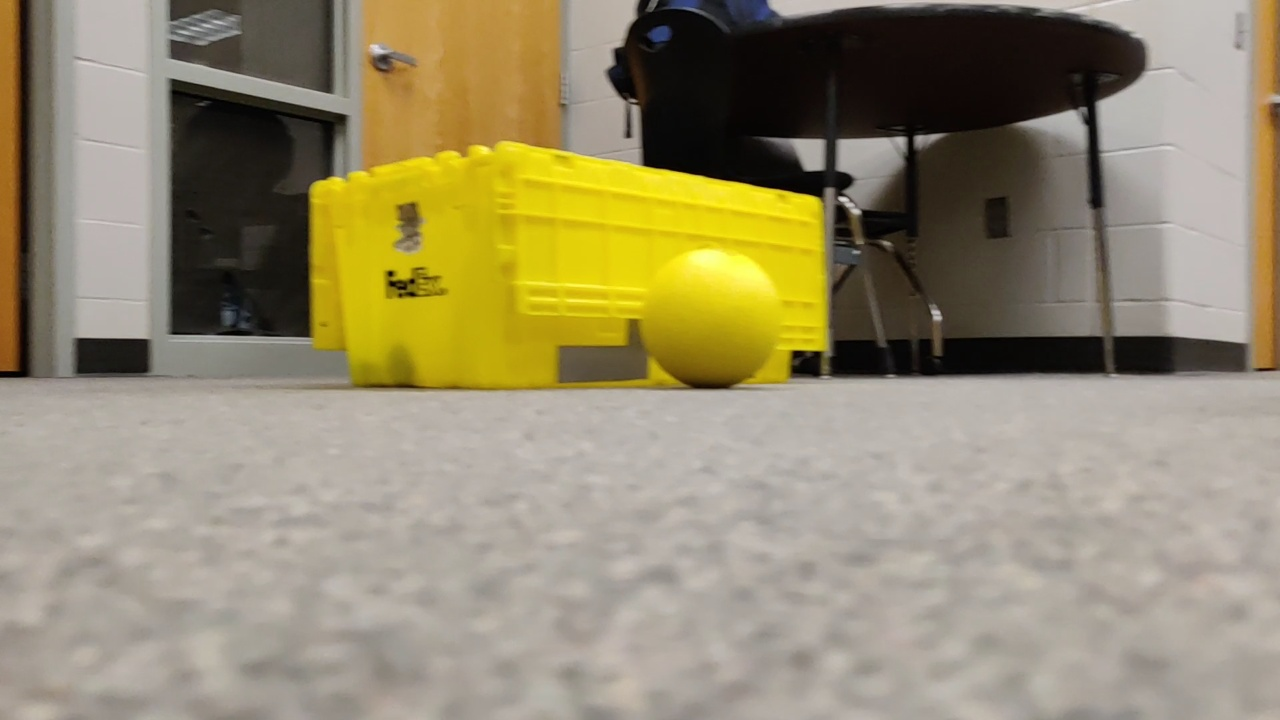Ball: (639, 245, 788, 393)
